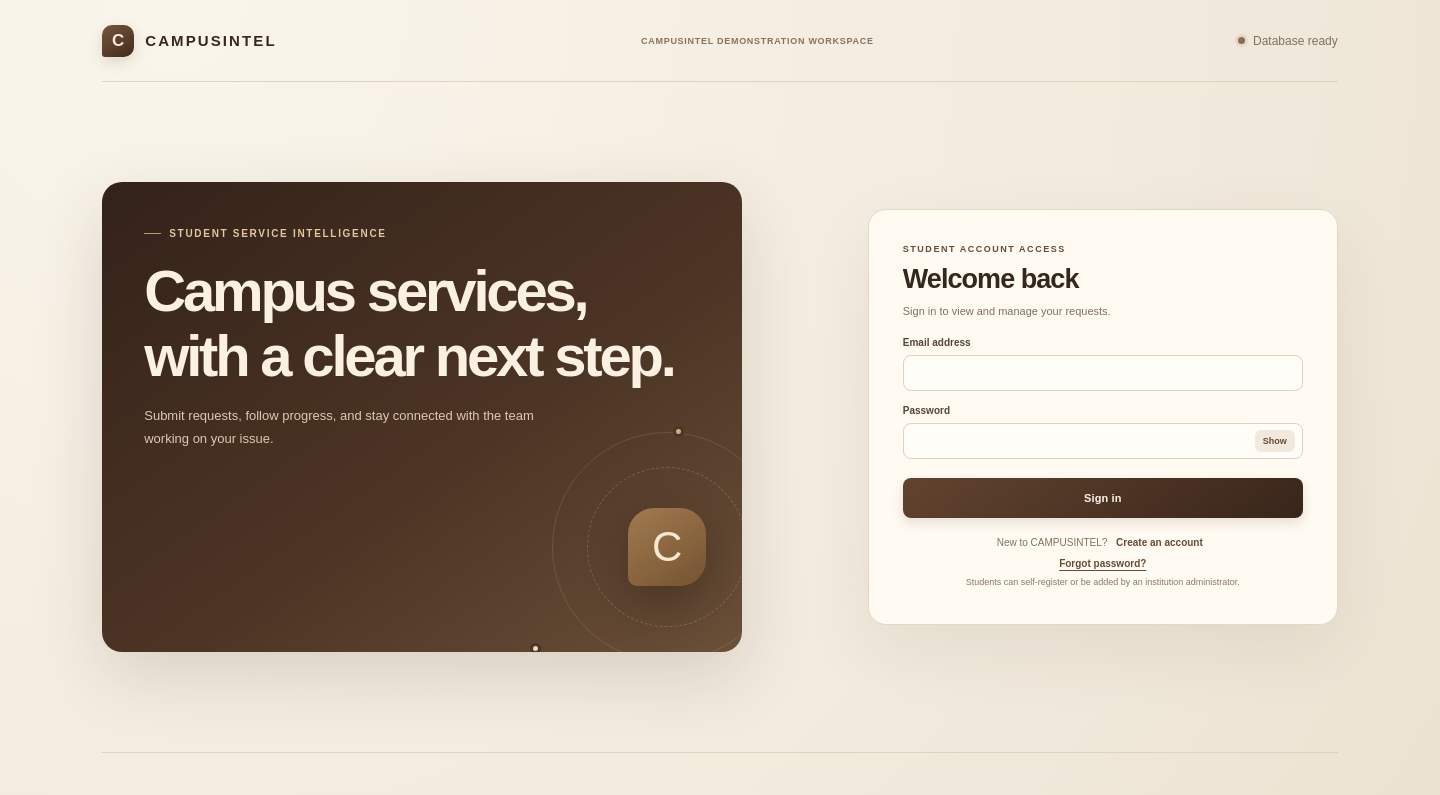
Test case: authentication entry › opens the student registration form
The width and height of the screenshot is (1440, 795).
Click the button "Create an account" at [1159, 543], box [1110, 536, 1209, 549]
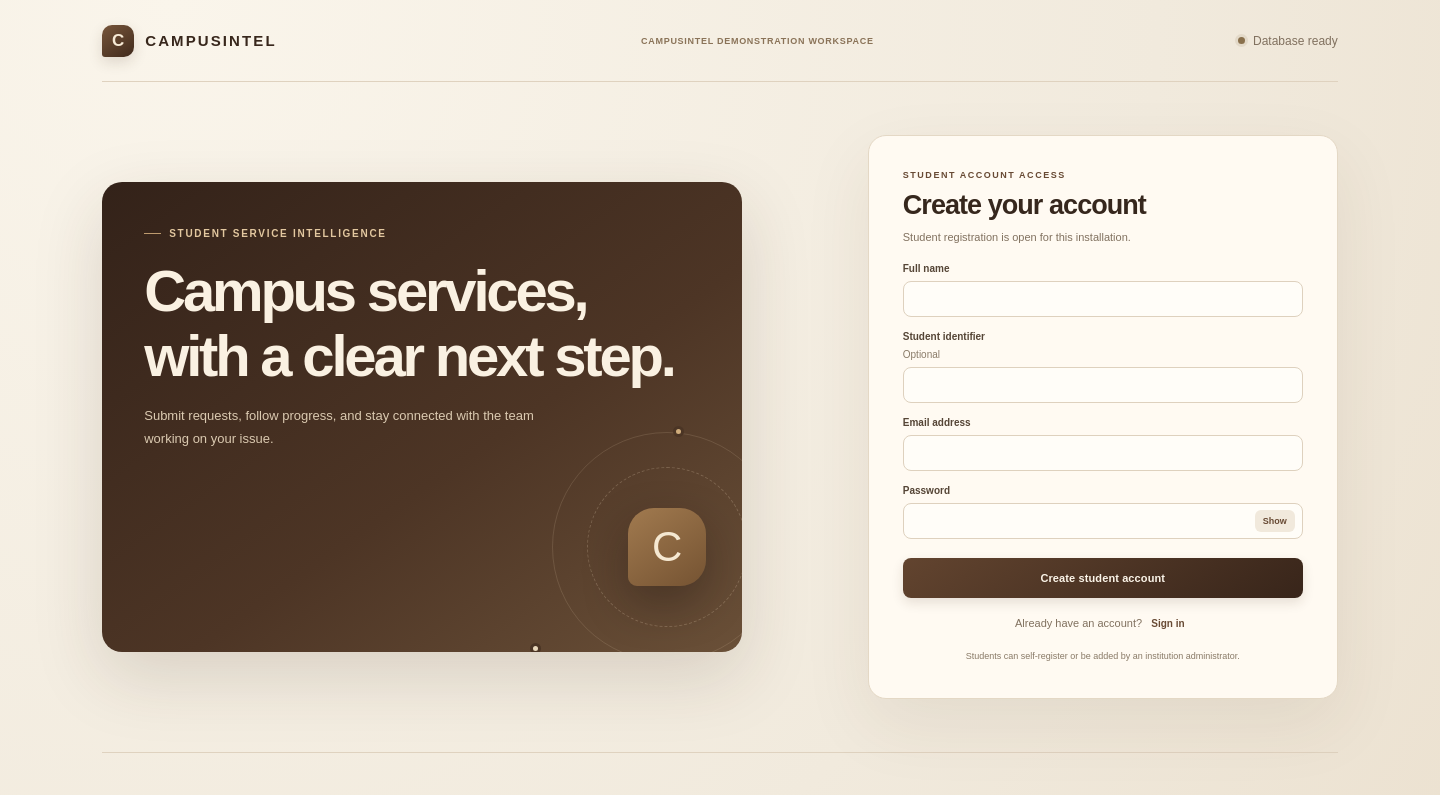
Expected: the heading "Create your account" is shown, [903, 190, 1146, 220]
Expected: the field labelled "Full name" is shown, [903, 281, 1303, 317]
Expected: the field labelled "Student identifier Optional" is shown, [903, 367, 1303, 403]
